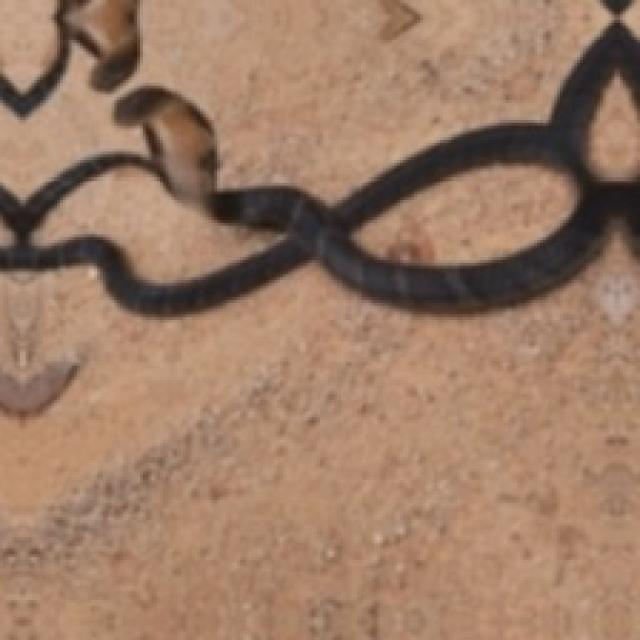king cobra: (0, 0, 637, 314)
